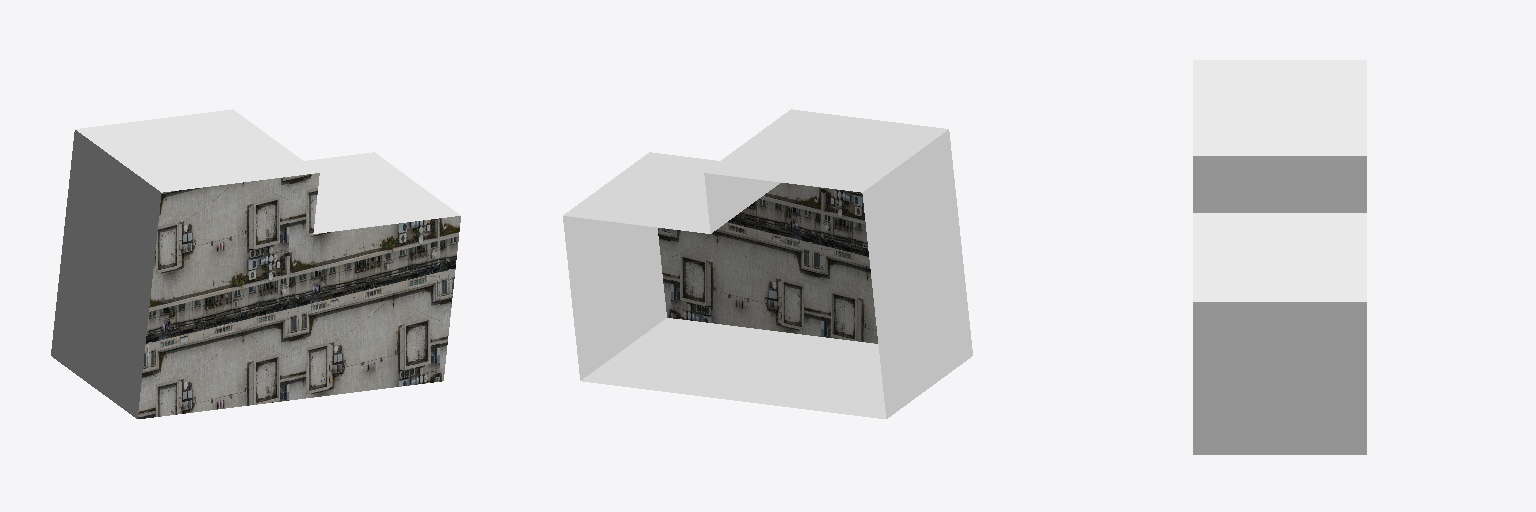
3 views of the same model, side by side, from view 1: azimuth 30°, elevation 25°; view 2: azimuth 150°, elevation 25°; view 3: azimuth 270°, elevation 25° (orthographic).
Visible parts, largest first — view 1: Building; view 2: Building; view 3: Building.
Part boxes in pixels (x1,y1,x2,y2): Building: (51, 109, 460, 418); Building: (563, 109, 972, 418); Building: (1193, 60, 1366, 454).
Size of the model in its own units: 38.73 by 29.44 by 18.
Materials: 2 (1 with a texture image).